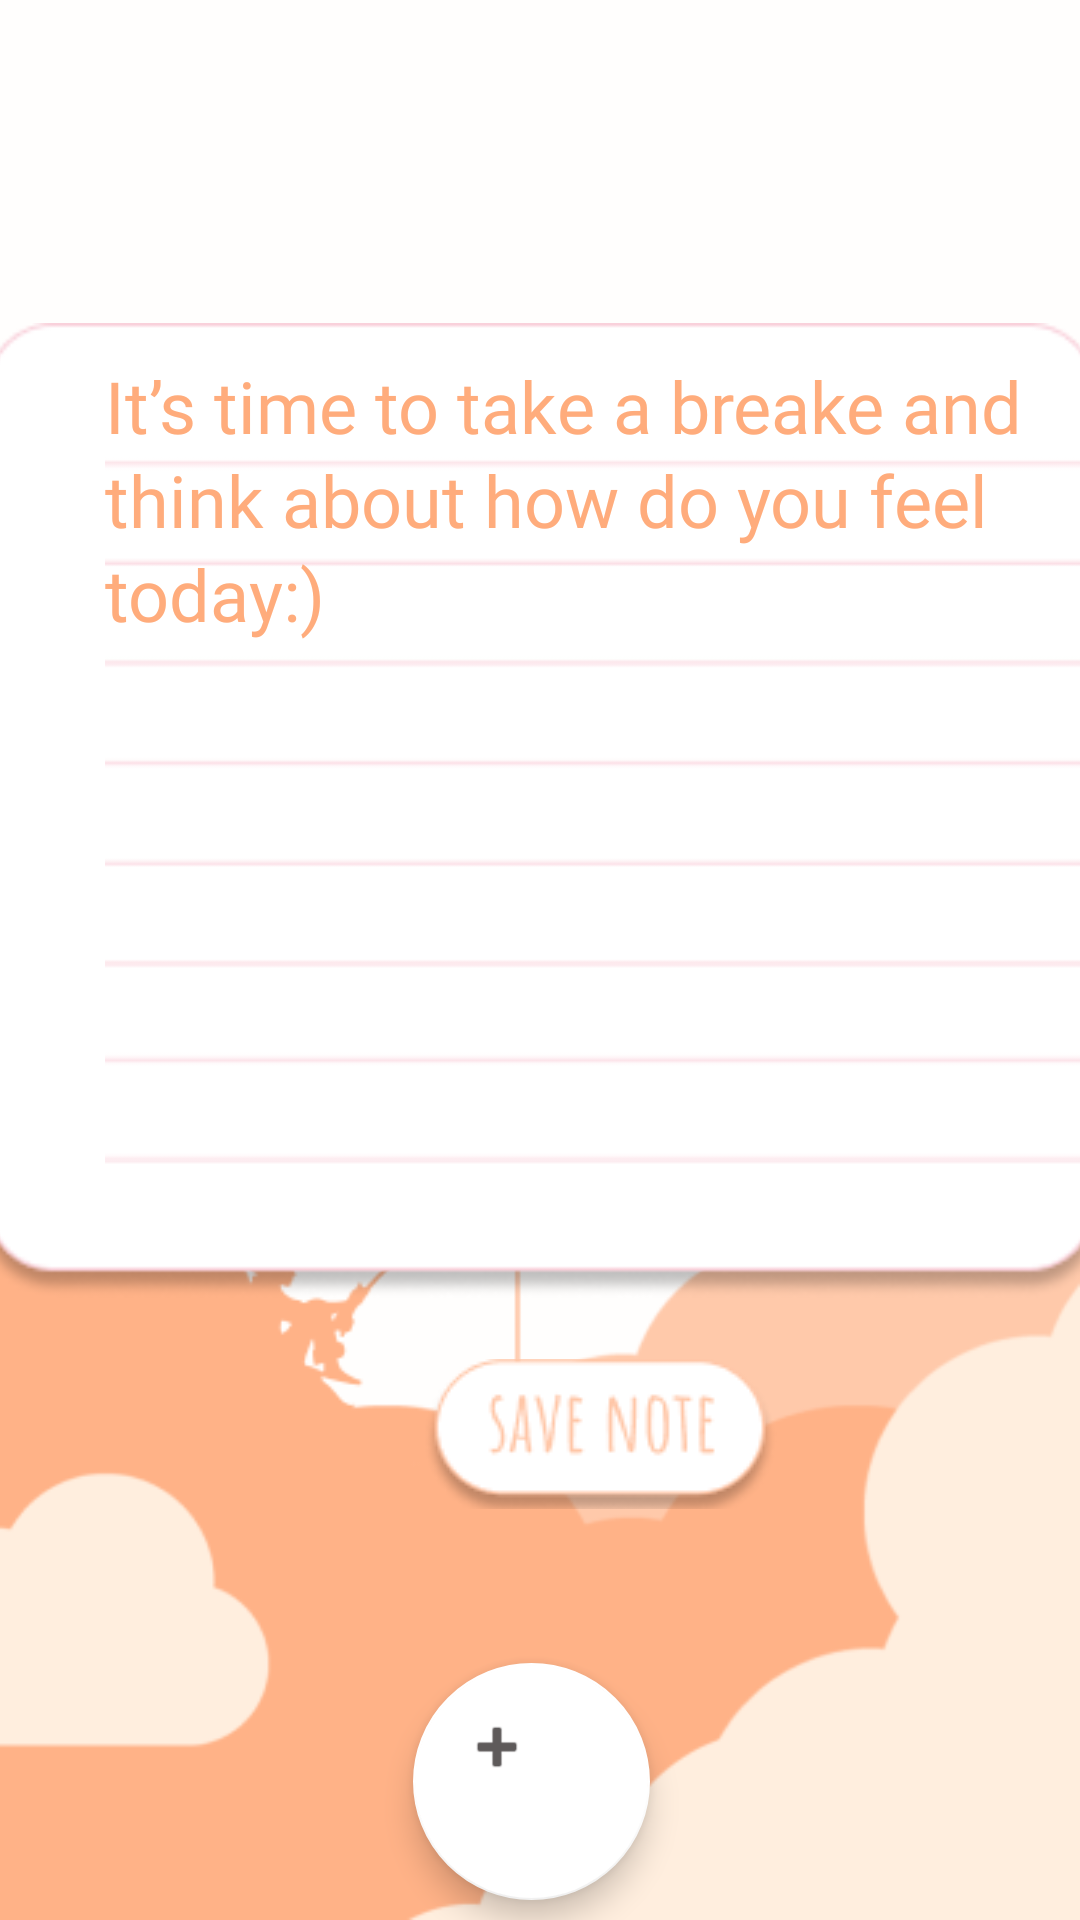

Where to tap for icons on this 1080x1920 app screen, as (x,y):
add: (531,1781)
